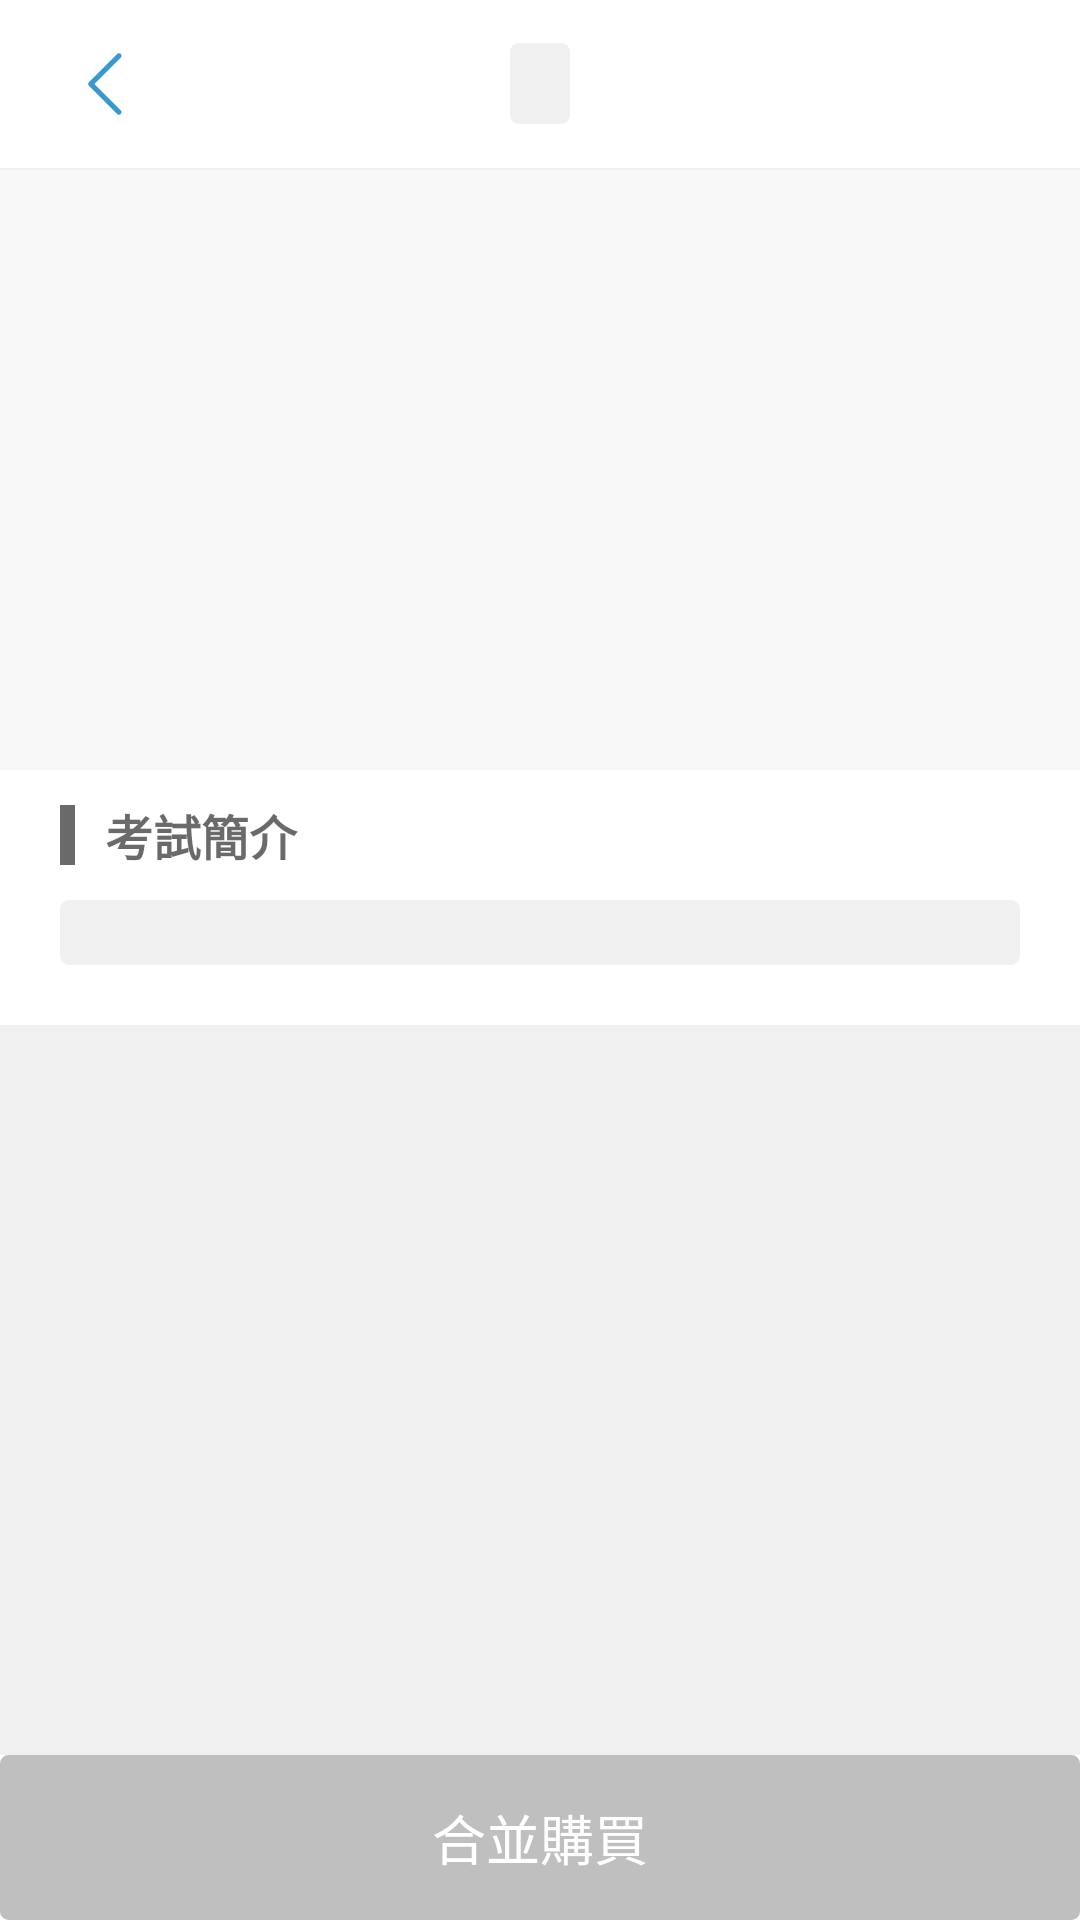

Icon bounding boxes for this 1080 x 1920 phone screenshot, format (x1, y1, x2, y2):
back: (88, 53, 122, 115)
